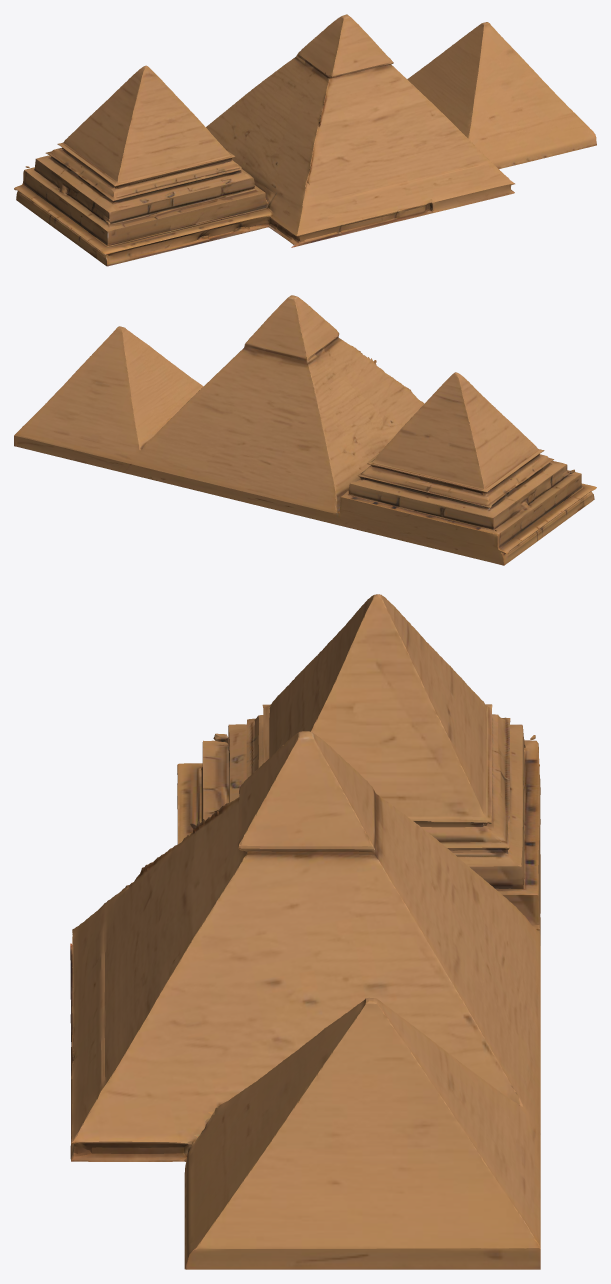
File: piramide-giza.glb
3 renders of one model, top to bottom at view 1: azimuth 30°, elevation 25°; view 2: azimuth 150°, elevation 25°; view 3: azimuth 270°, elevation 25°, orthographic. The views are drawn at different scales.
Parts seen in each view (by area): view 1: Object_2; view 2: Object_2; view 3: Object_2.
Part boxes in pixels (x1=…): Object_2: x1=14, y1=14, x2=596, y2=266; Object_2: x1=14, y1=295, x2=596, y2=565; Object_2: x1=70, y1=594, x2=540, y2=1269.
Bounding box in the file's own units: 1.9 × 0.5921 × 0.786.
1 material, 1 textured.
